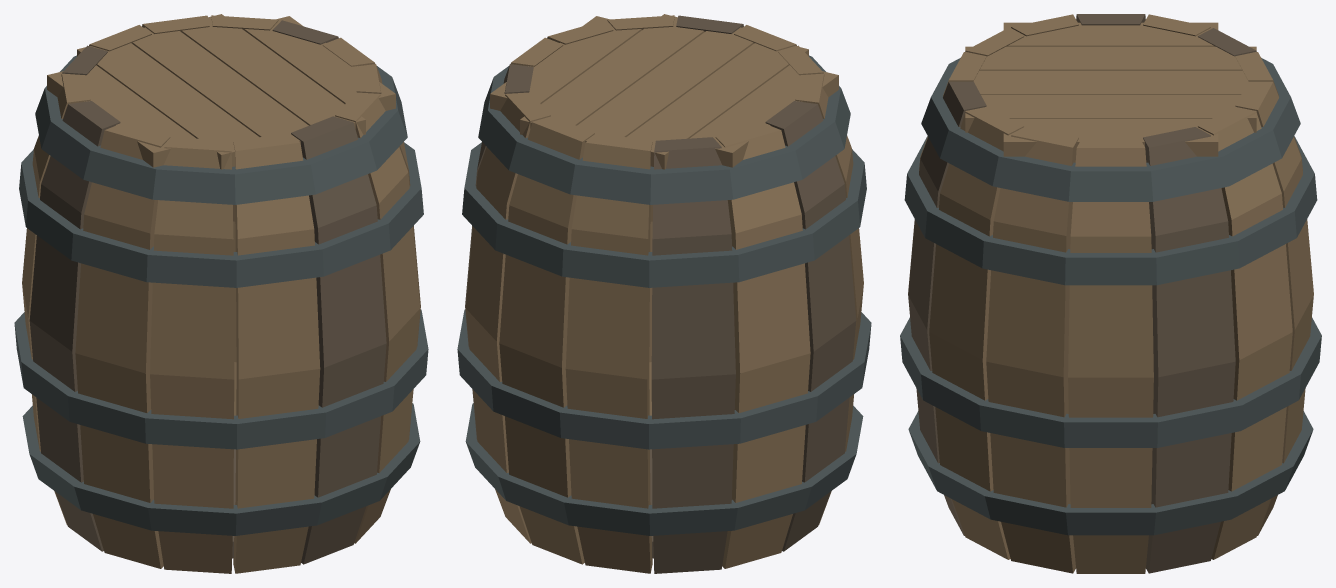
File: DG_Barrel_Ironbound.fbx
3 views of the same model, side by side, from view 1: azimuth 30°, elevation 25°; view 2: azimuth 150°, elevation 25°; view 3: azimuth 270°, elevation 25° (orthographic).
Visible parts, largest first — view 1: DG_Barrel_Ironbound; view 2: DG_Barrel_Ironbound; view 3: DG_Barrel_Ironbound.
Part boxes in pixels (x1,y1,x2,y2): DG_Barrel_Ironbound: (14,14,428,573); DG_Barrel_Ironbound: (457,14,871,573); DG_Barrel_Ironbound: (900,14,1321,573).
Size of the model in its own units: 0.7703 by 0.88 by 0.7901.
